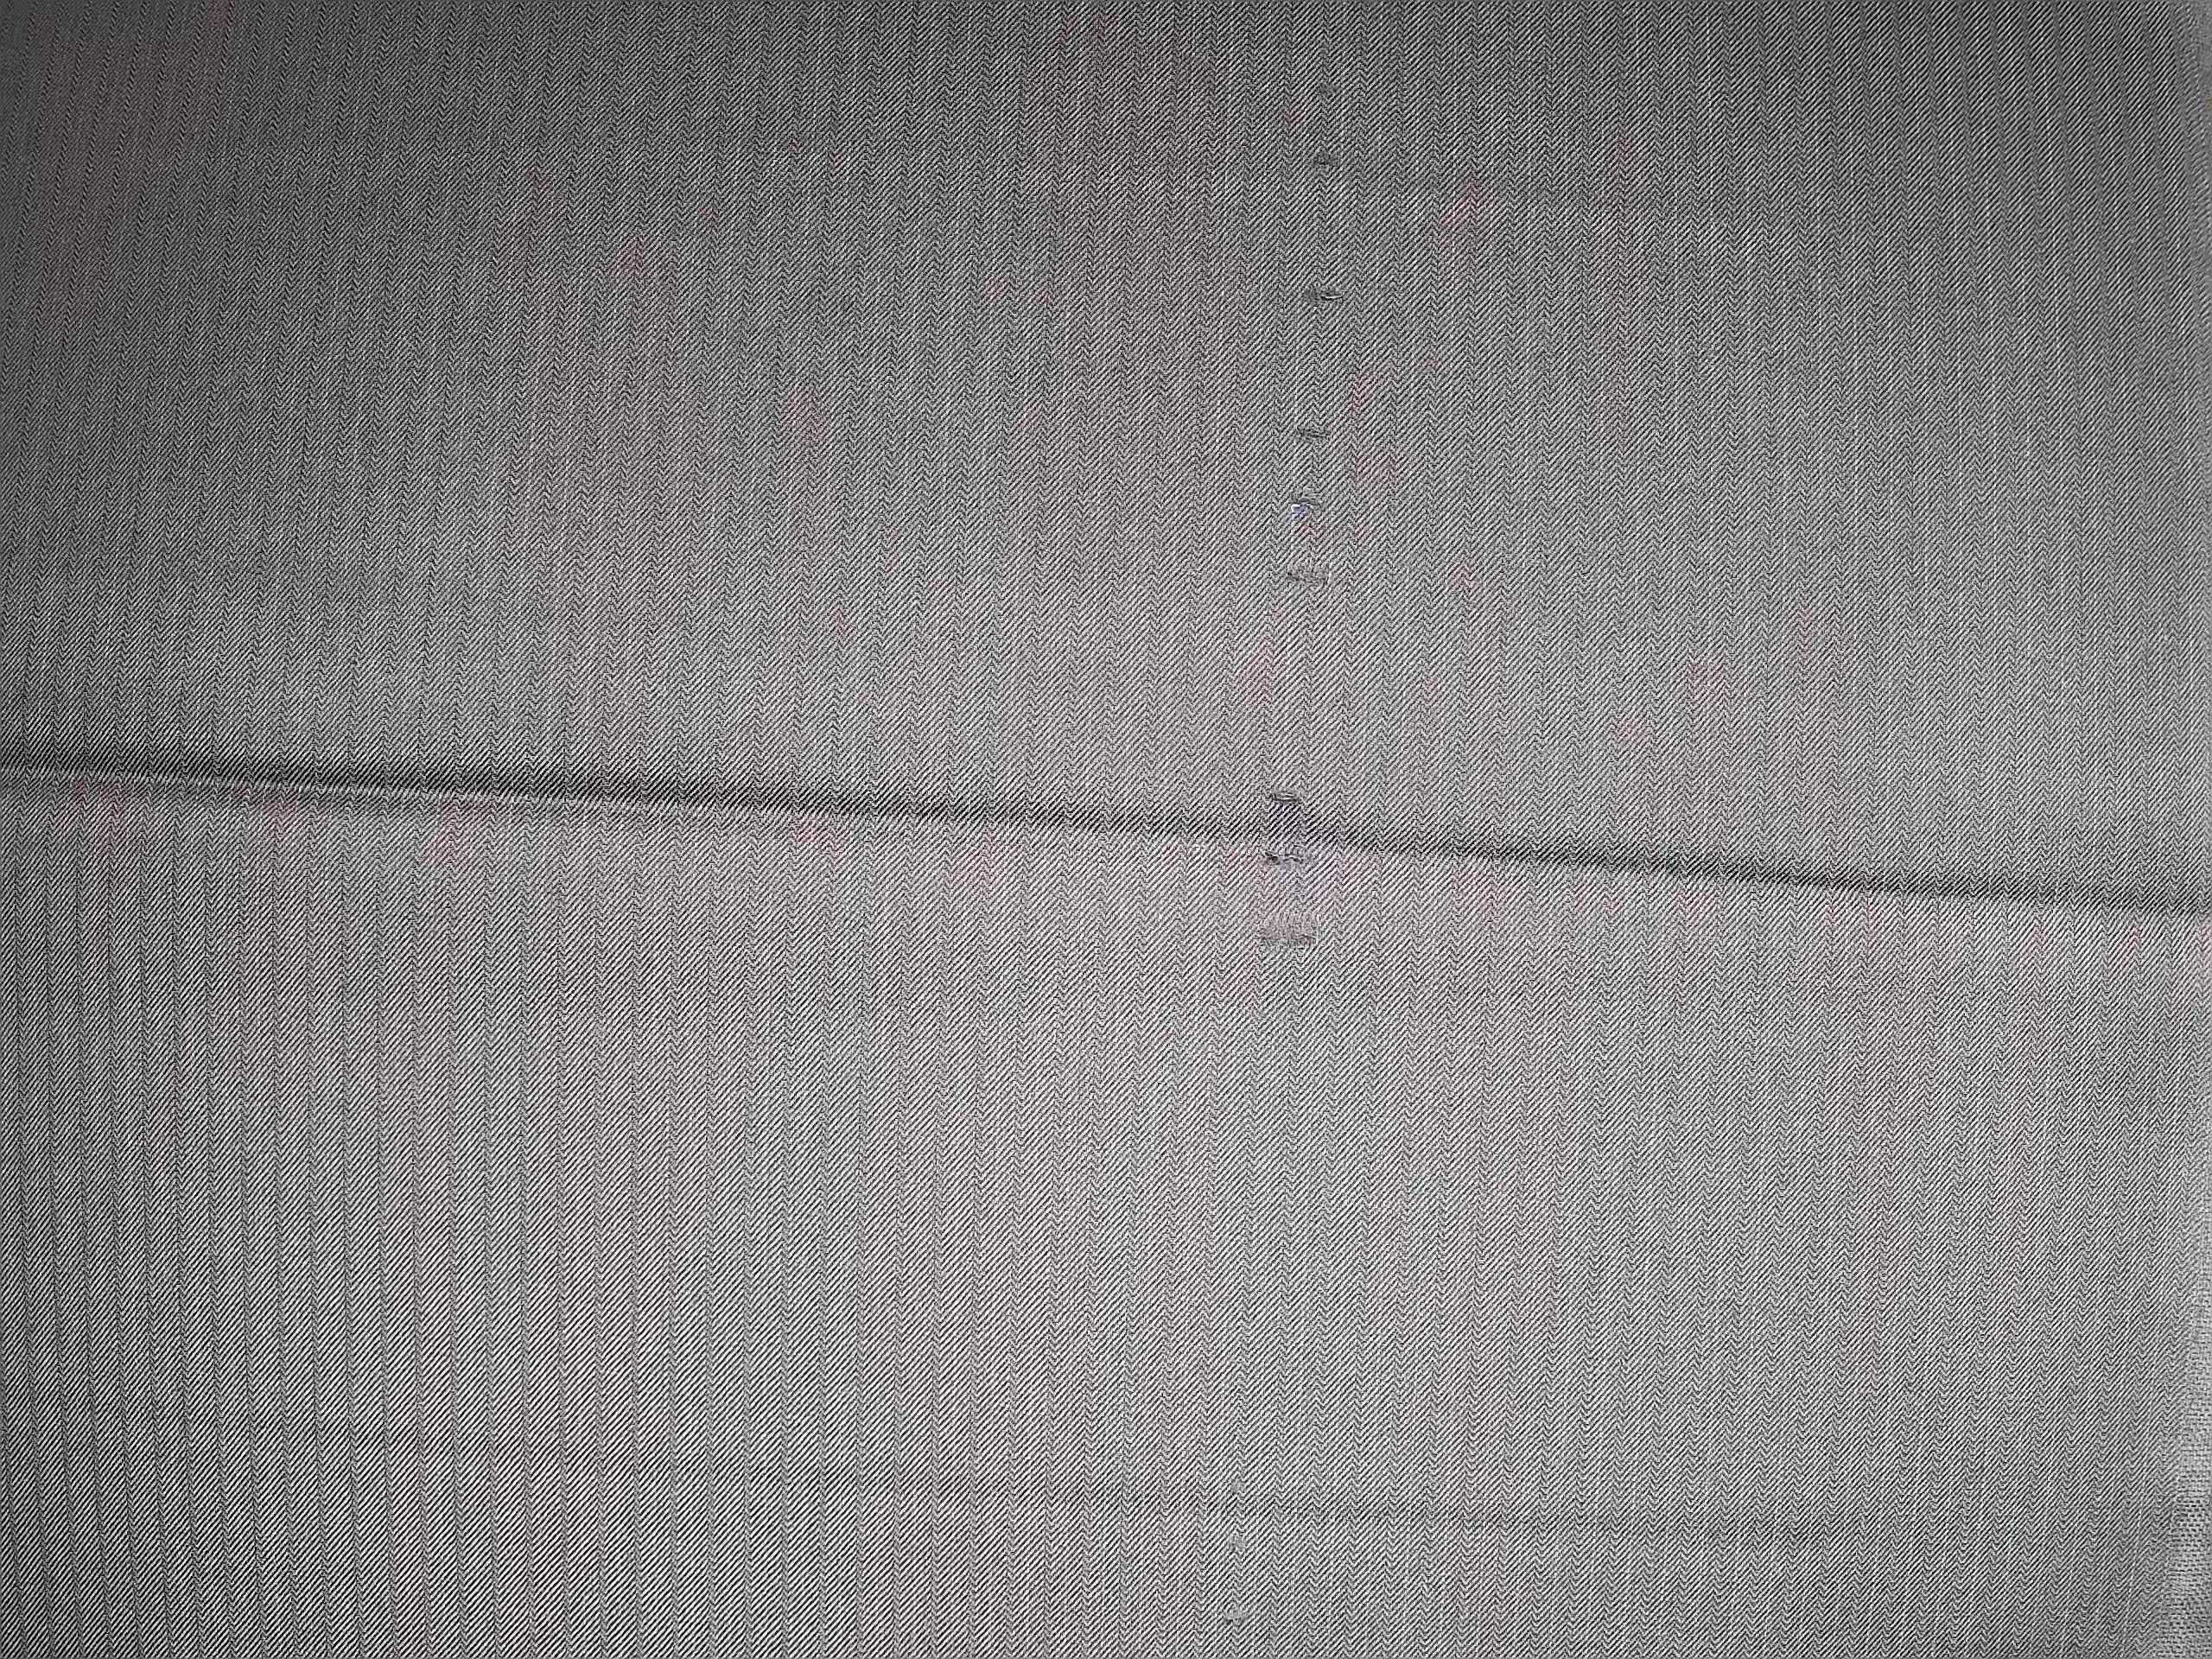puncture-hole: (1224, 120, 1364, 976)
